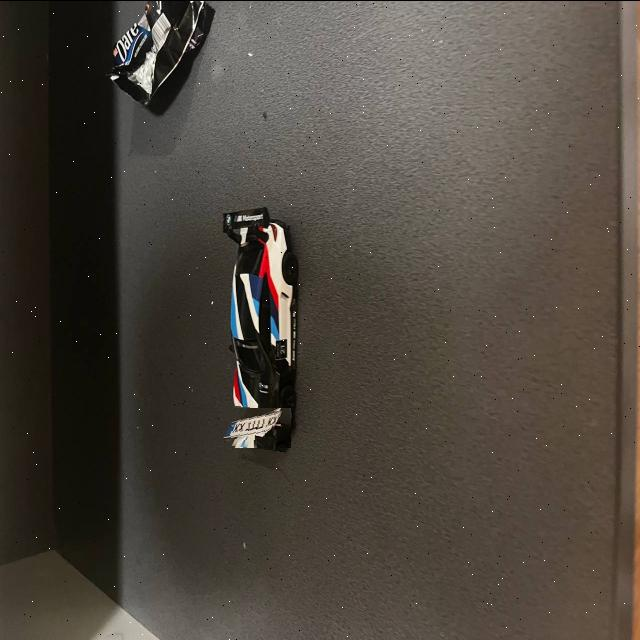KX 7777 KX: (220, 411, 292, 443)
